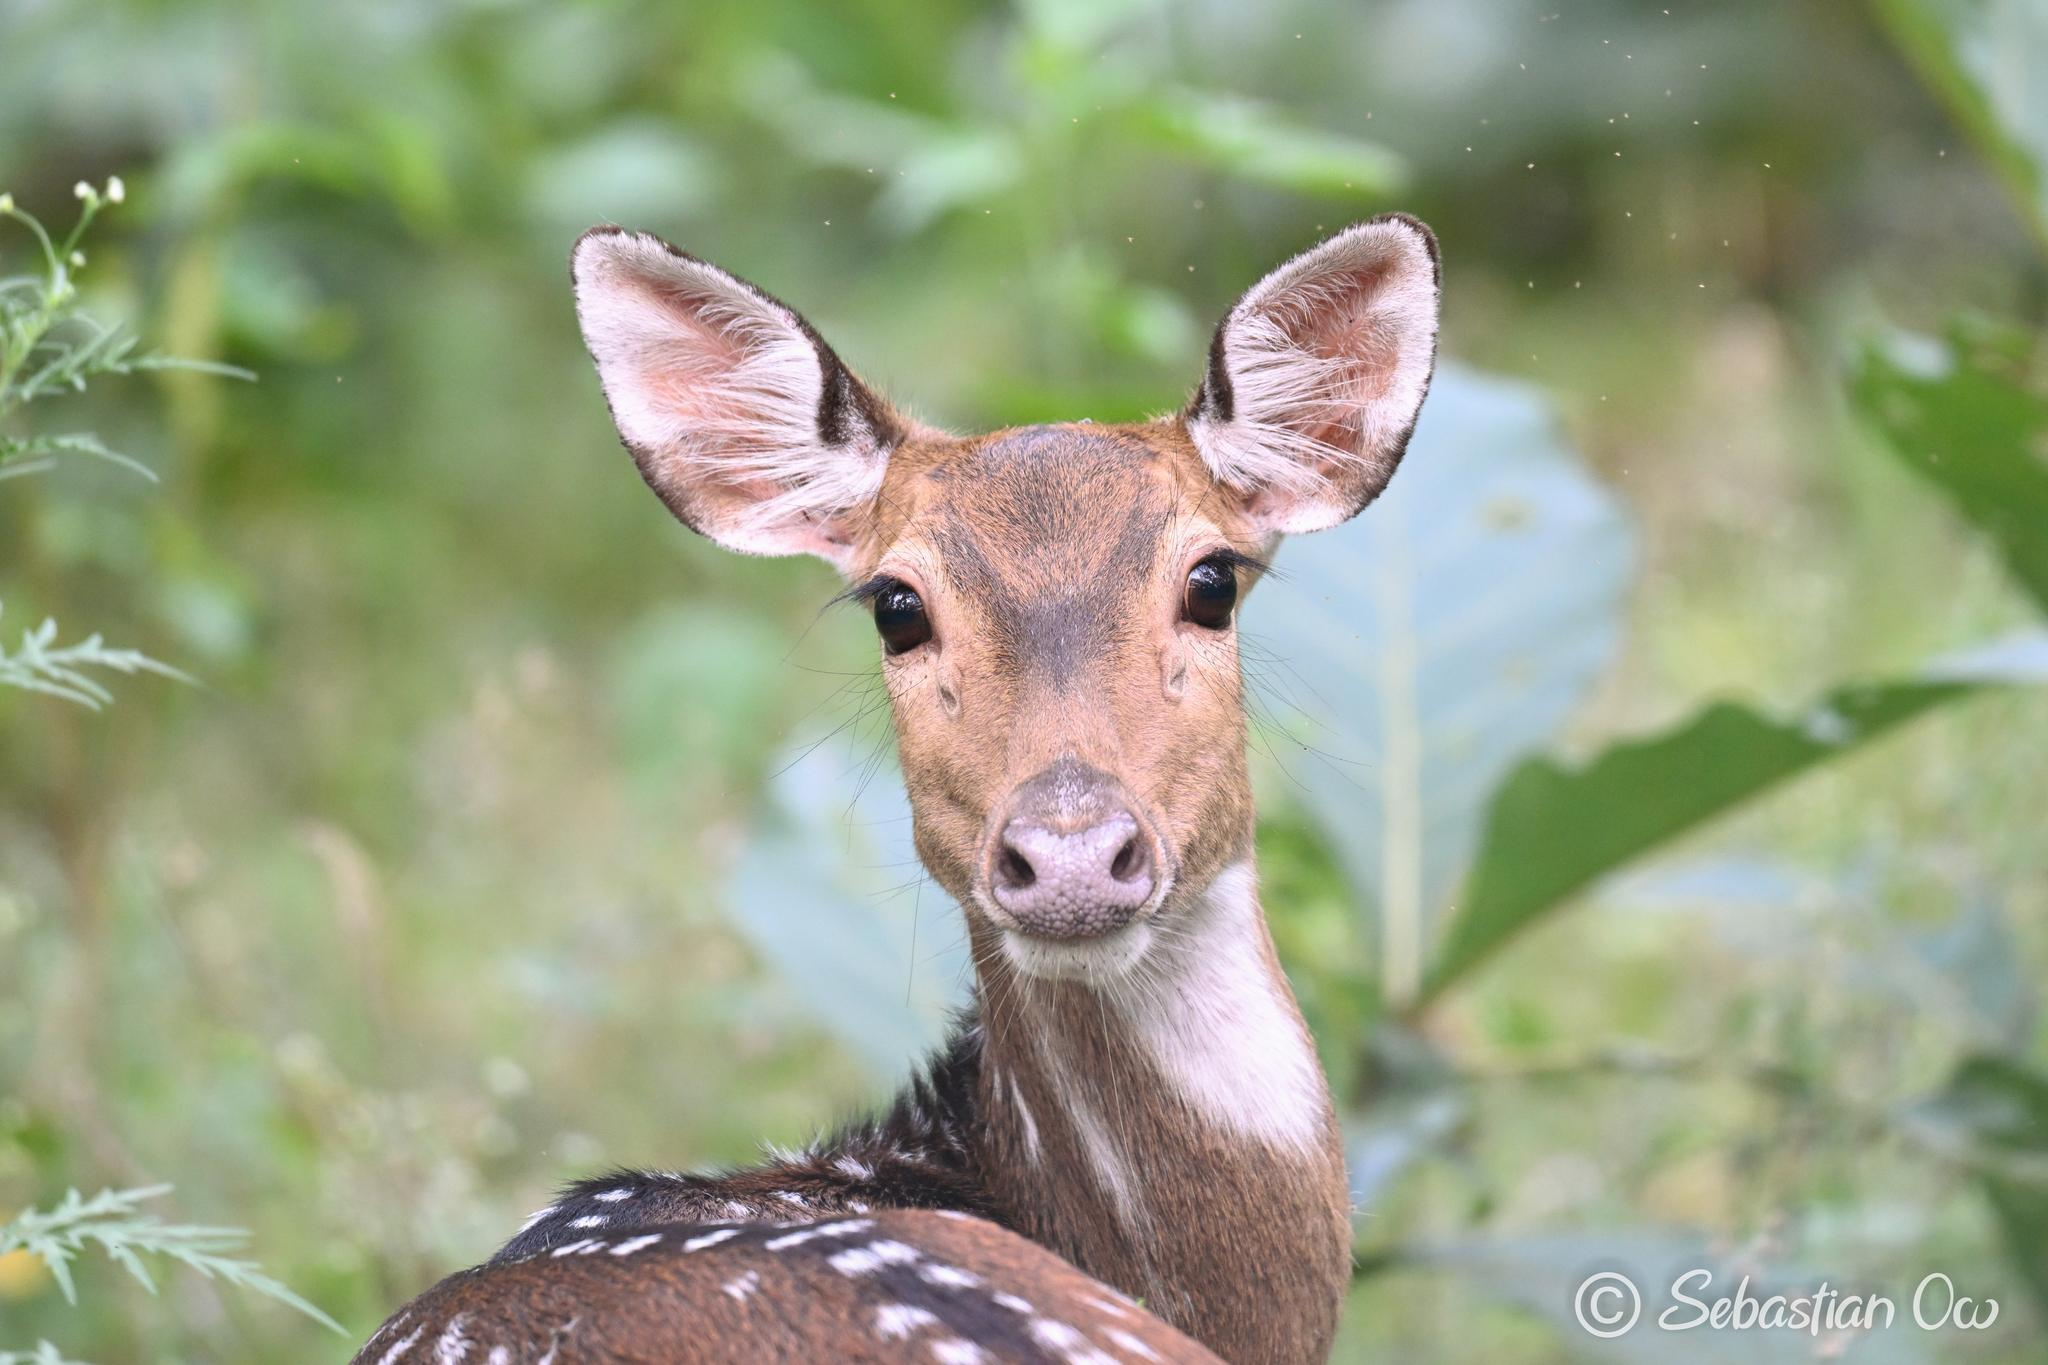Deer: (355, 216, 1439, 1363)
